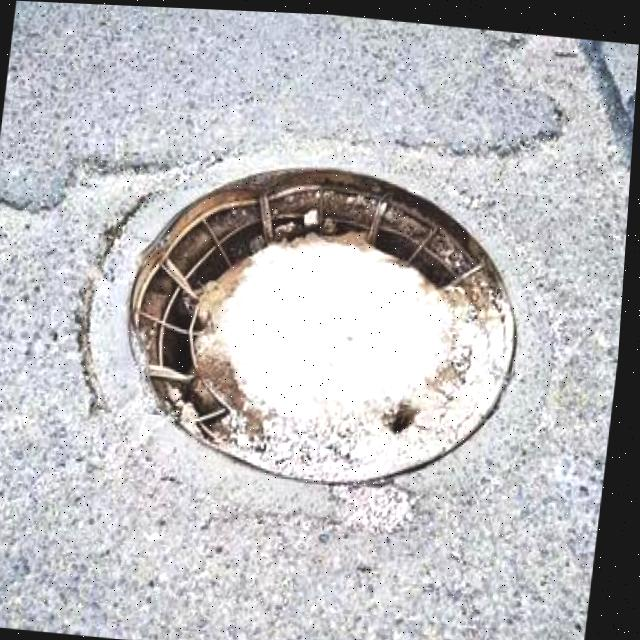manhole: (67, 120, 563, 516)
